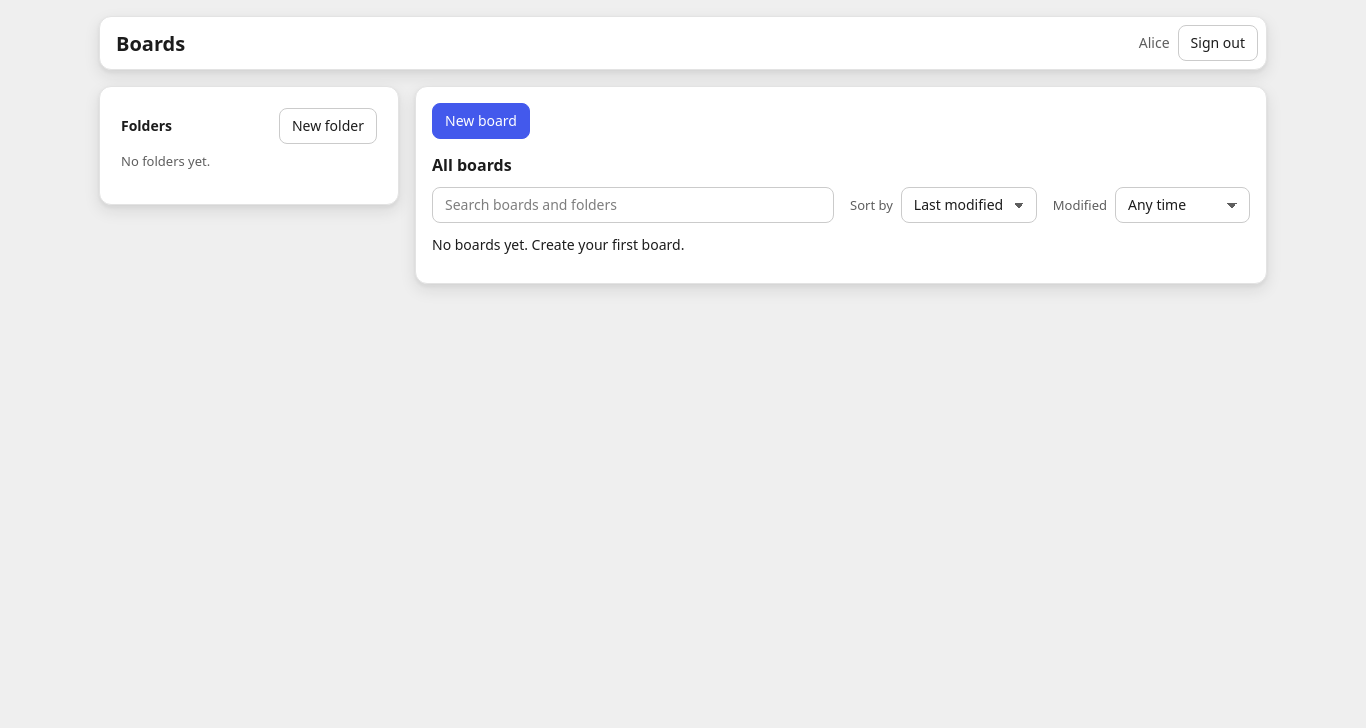
Test case: / — создание, переименование, удаление (BRD-01…BRD-03) › BRD-01: New board создаёт доску и сразу открывает её
The width and height of the screenshot is (1366, 728).
Click the button "New board": (481, 121) [432, 103, 530, 139]
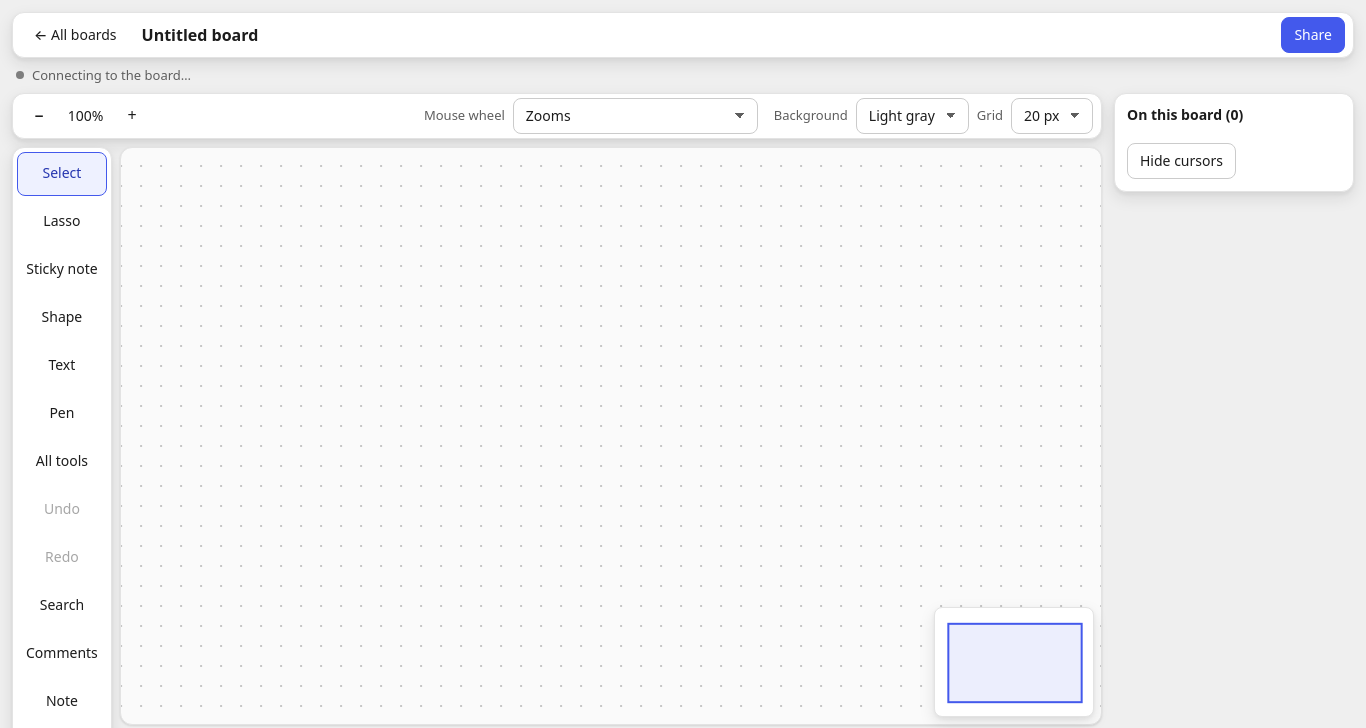
Expected: the heading "Untitled board" is shown, [142, 24, 258, 46]
